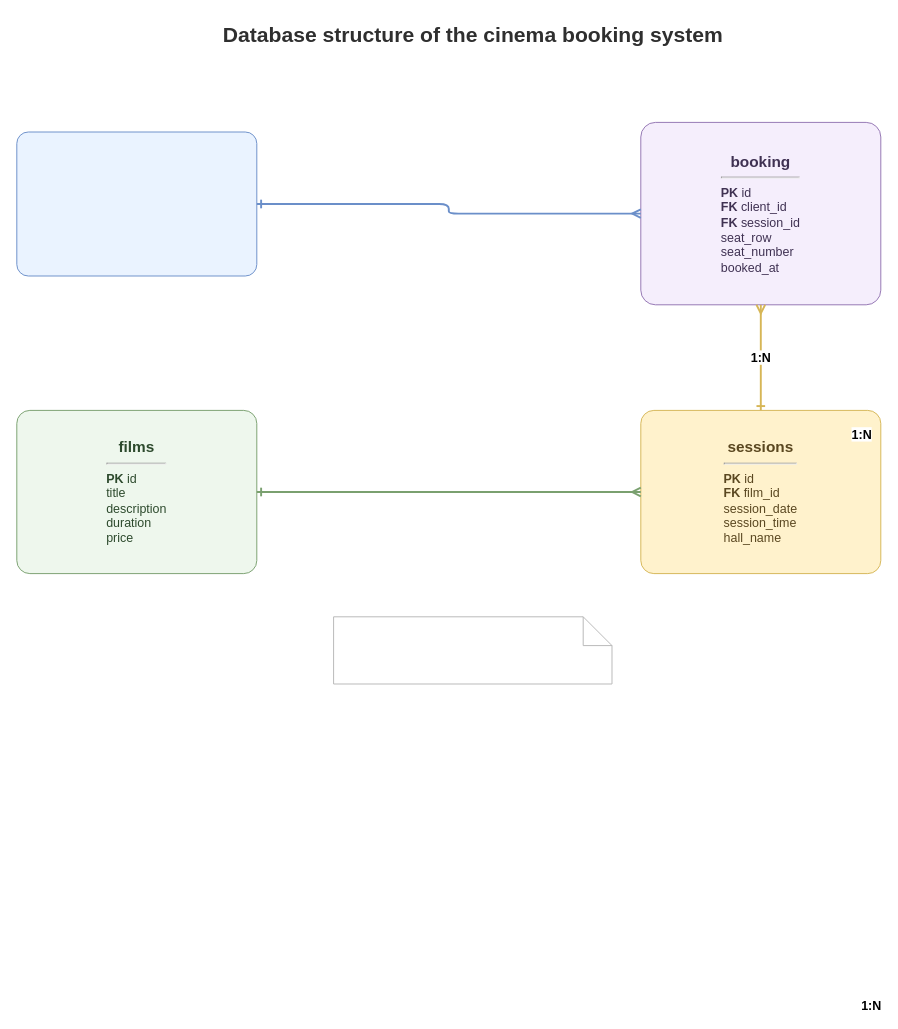
Image size: 898x1029. Some labels were removed from this diagram. Each missing label, with the box of its shape:
A seat is identified by seat_row and seat_number within a selected session.: (333, 616, 612, 684)
clients PK id email password role: (16, 131, 257, 276)
